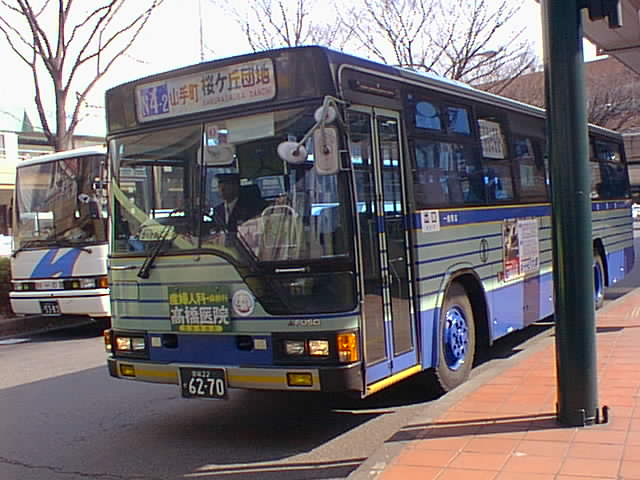destination: (131, 55, 280, 126)
